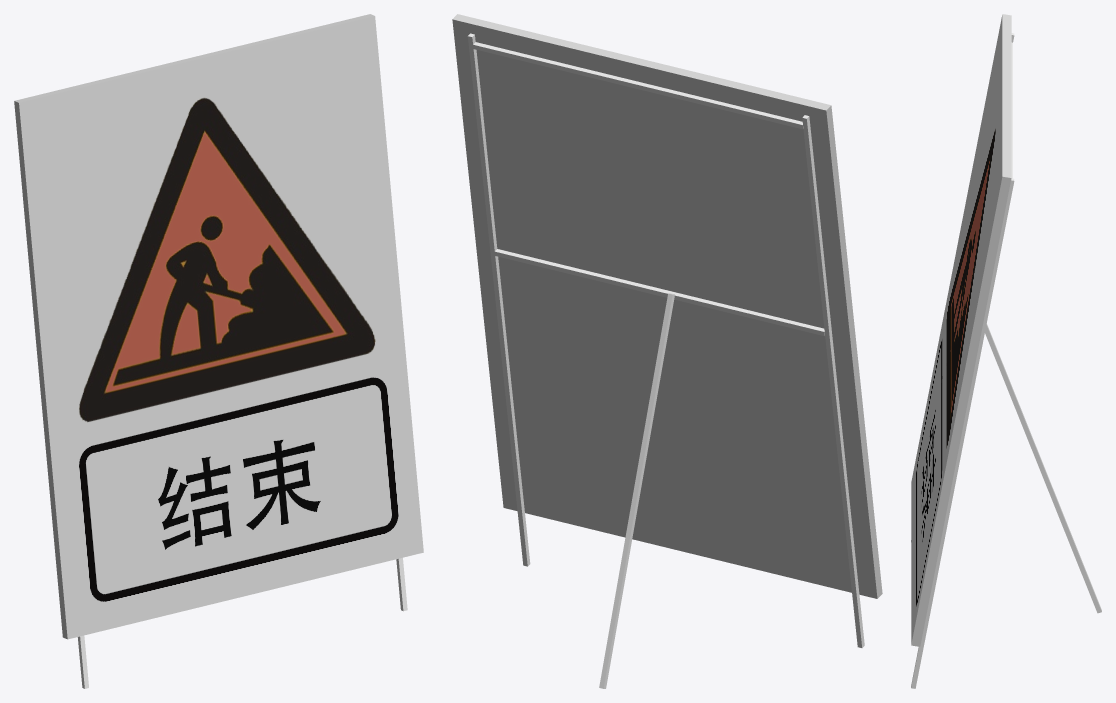
The picture shows the model from 3 angles, left to right: view 1: azimuth 30°, elevation 25°; view 2: azimuth 150°, elevation 25°; view 3: azimuth 270°, elevation 25°; orthographic projection. The views are drawn at different scales.
Visible parts, largest first — view 1: 立方体-材质.3, 立方体-材质.5; view 2: 立方体-材质.5, 立方体.4, 立方体.3, 立方体.7, 立方体.5, 立方体.6; view 3: 立方体-材质.3, 立方体-材质.5, 立方体.3, 立方体.7.
Boxes of the visible parts, x1,y1,x2,y2 form: 立方体-材质.3: (19,16,423,639); 立方体-材质.5: (14,14,374,639); 立方体-材质.5: (452,14,882,598); 立方体.4: (802,115,864,647); 立方体.3: (468,33,530,566); 立方体.7: (599,293,674,688); 立方体.5: (469,42,803,129); 立方体.6: (491,249,824,336); 立方体-材质.3: (911,15,1002,643); 立方体-材质.5: (911,14,1011,646); 立方体.3: (911,178,1014,688); 立方体.7: (985,323,1101,613).
Size of the model in its own units: 5.71 by 8.56 by 2.83.
3 materials, 1 textured.
